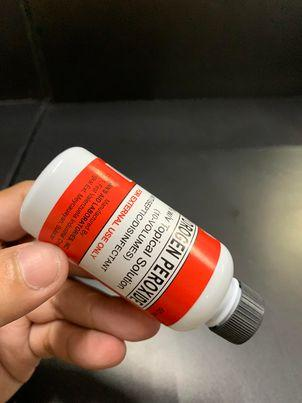-Bottle-: (18, 146, 268, 346)
